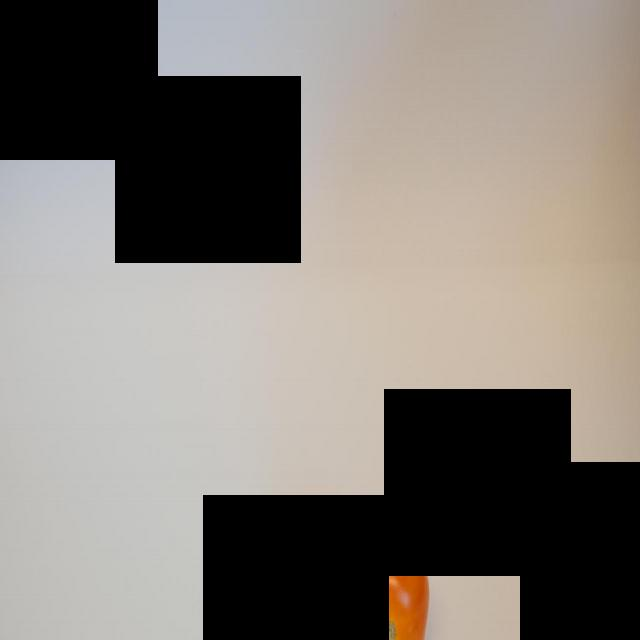tomato: (336, 524, 432, 639)
